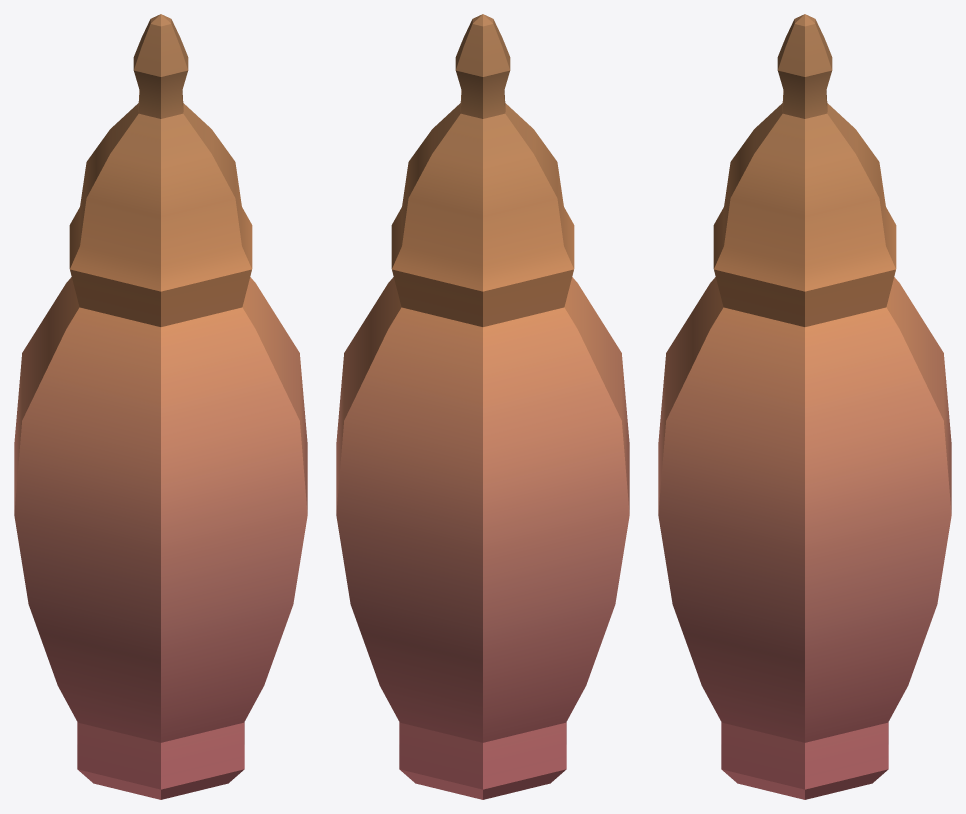
Rendered from Vase_Profiled2_Orange.fbx.
3 renders of one model, left to right at view 1: azimuth 30°, elevation 25°; view 2: azimuth 150°, elevation 25°; view 3: azimuth 270°, elevation 25°, orthographic.
Parts seen in each view (by area): view 1: Vase_Profiled2_Orange; view 2: Vase_Profiled2_Orange; view 3: Vase_Profiled2_Orange.
Boxes of the visible parts, left/top/right/bottom form: Vase_Profiled2_Orange: left=14, top=14, right=307, bottom=799; Vase_Profiled2_Orange: left=336, top=14, right=629, bottom=799; Vase_Profiled2_Orange: left=658, top=14, right=951, bottom=799.
Bounding box in the file's own units: 16.02 × 39.4 × 13.87.
